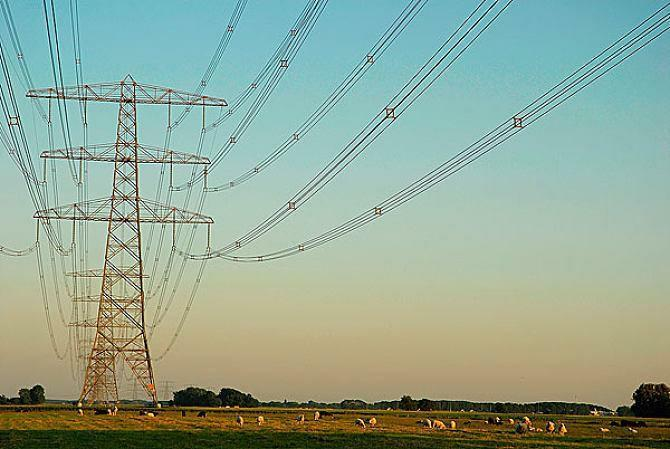power_tower: (26, 72, 240, 408)
